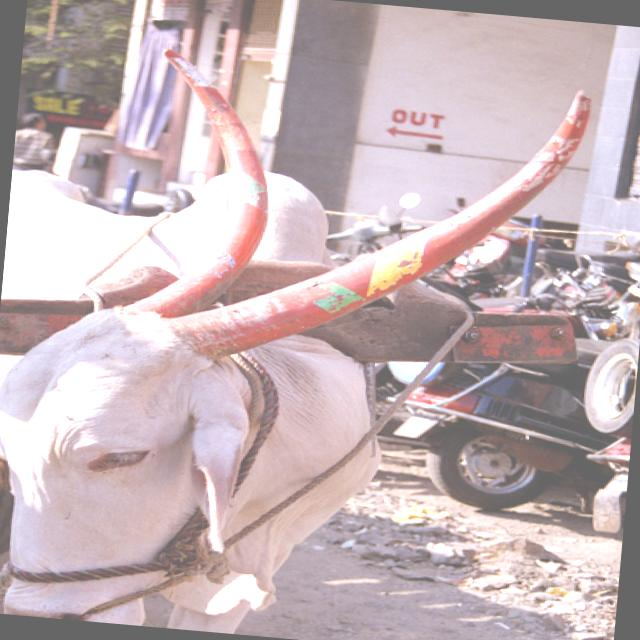Vehicle: (372, 320, 622, 526), (420, 224, 576, 304), (504, 246, 638, 324), (592, 201, 640, 328), (534, 247, 626, 270)
